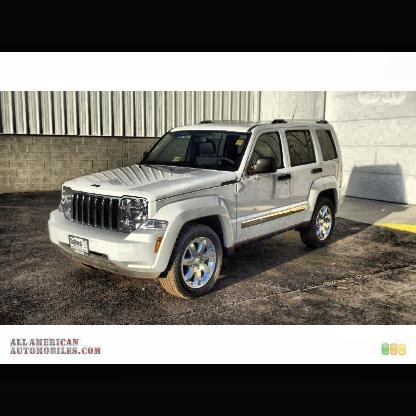Jeep Liberty SUV 2012: (46, 119, 344, 303)
